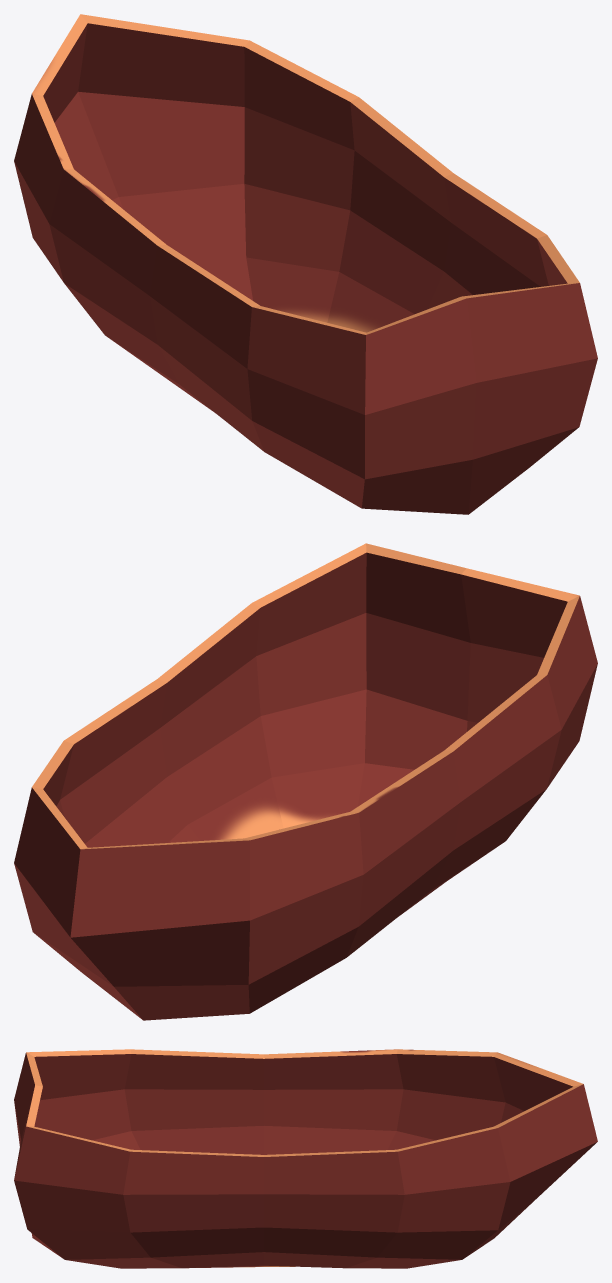
Rendered from boat.glb.
The picture shows the model from 3 angles, top to bottom: view 1: azimuth 30°, elevation 25°; view 2: azimuth 150°, elevation 25°; view 3: azimuth 270°, elevation 25°; orthographic projection. The views are drawn at different scales.
Parts seen in each view (by area): view 1: Sphere; view 2: Sphere; view 3: Sphere.
Boxes of the visible parts, <box> form: Sphere: <box>14,14,597,514</box>; Sphere: <box>14,543,597,1020</box>; Sphere: <box>14,1049,597,1268</box>.
Bounding box in the file's own units: 1.29 × 0.9592 × 2.93.
Materials: 1 (1 with a texture image).
